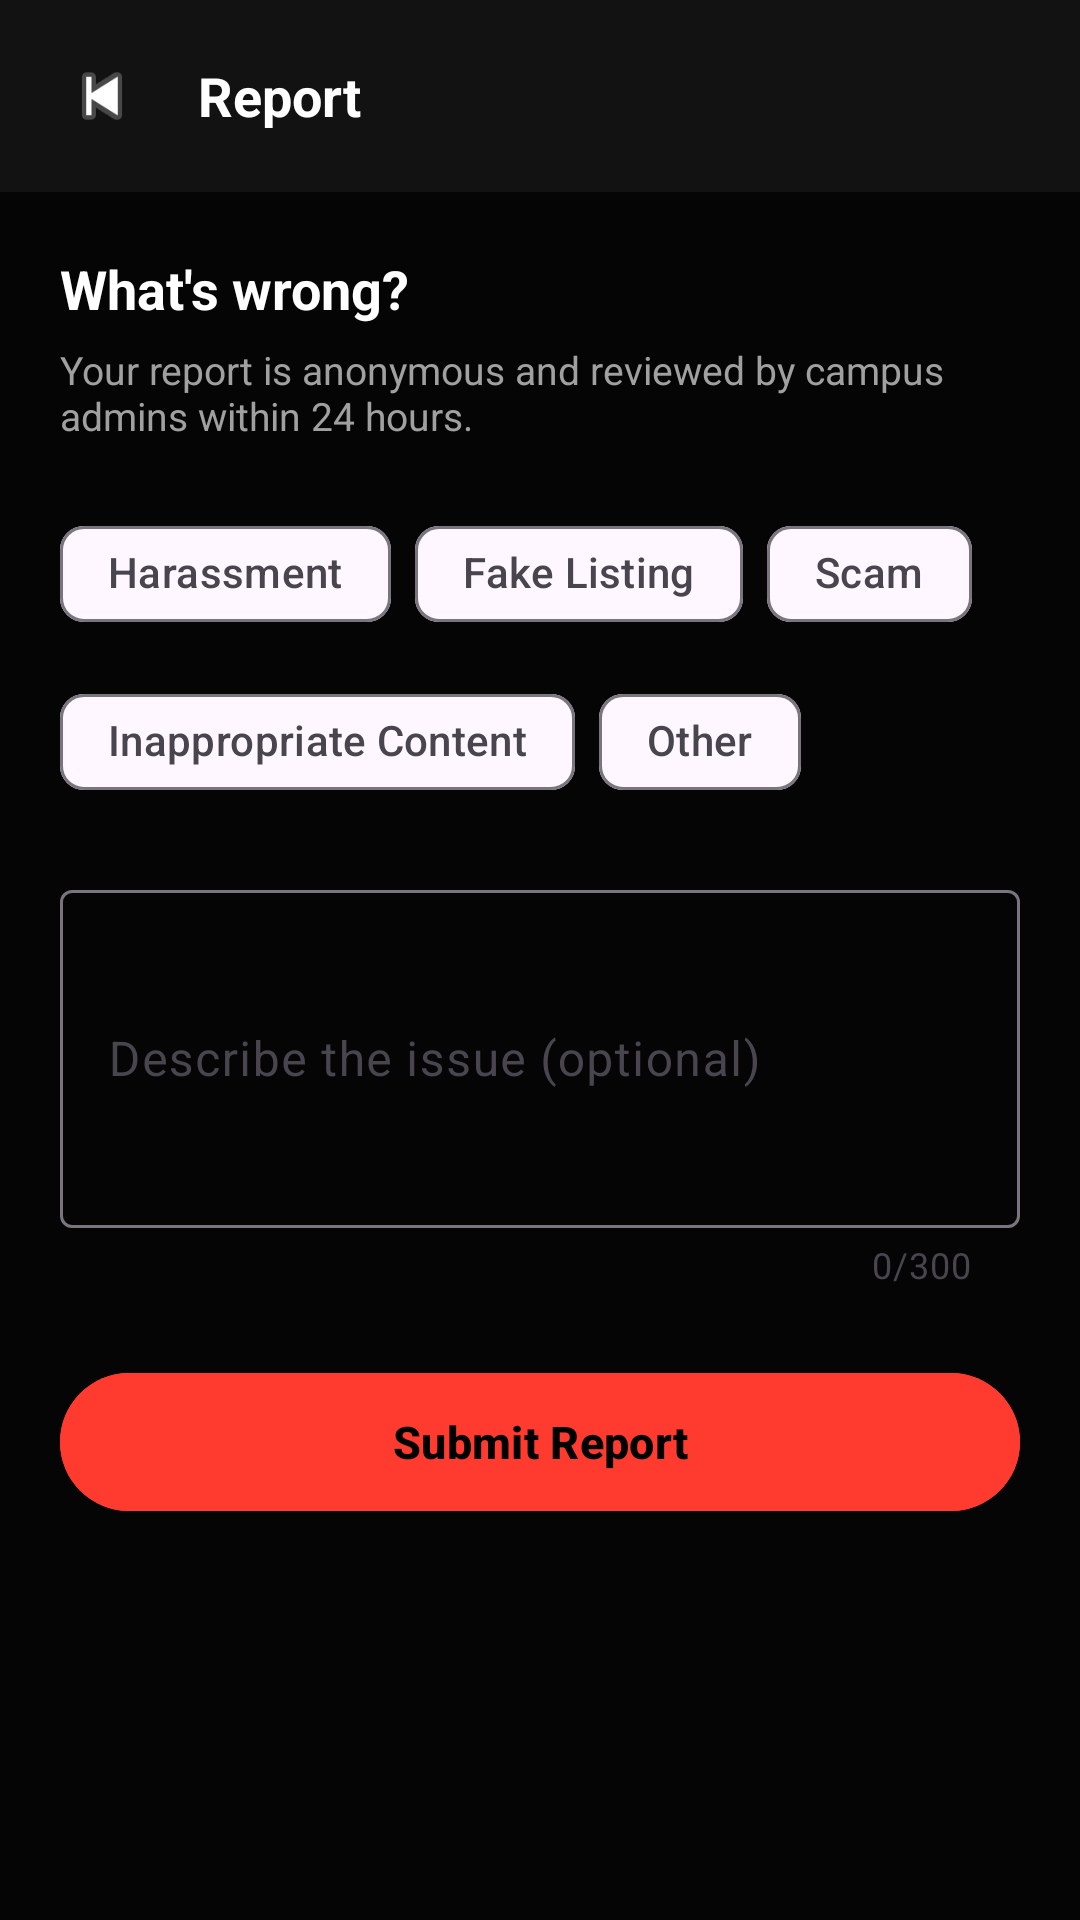

Screen size 1080px×1920px. Icon name, then its center in pixels as (x=x, y=y):
Back: (x=102, y=96)
